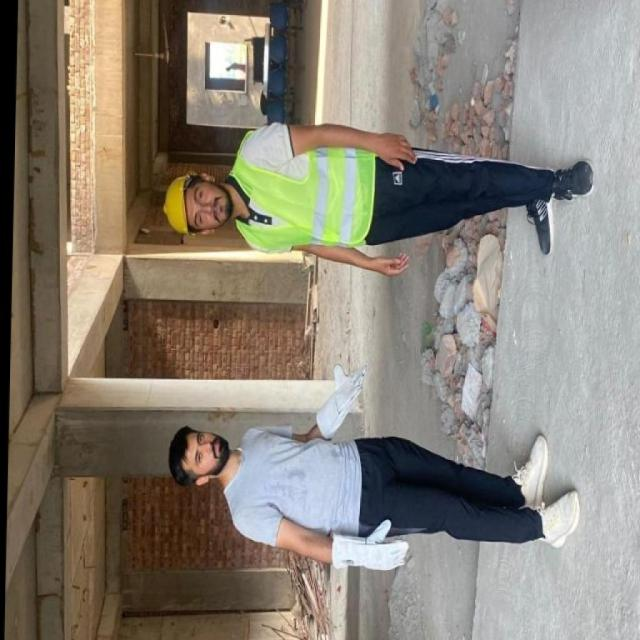Gloves-Detection: (332, 515, 411, 579), (316, 362, 365, 431)
